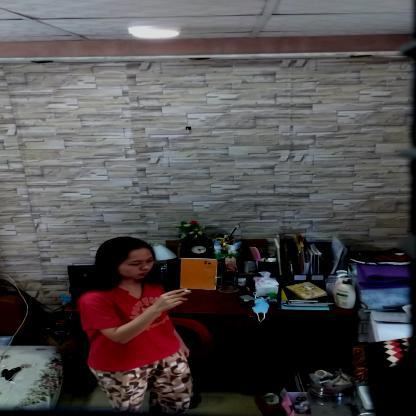cigarette: (184, 289, 192, 292)
person: (71, 235, 200, 415)
